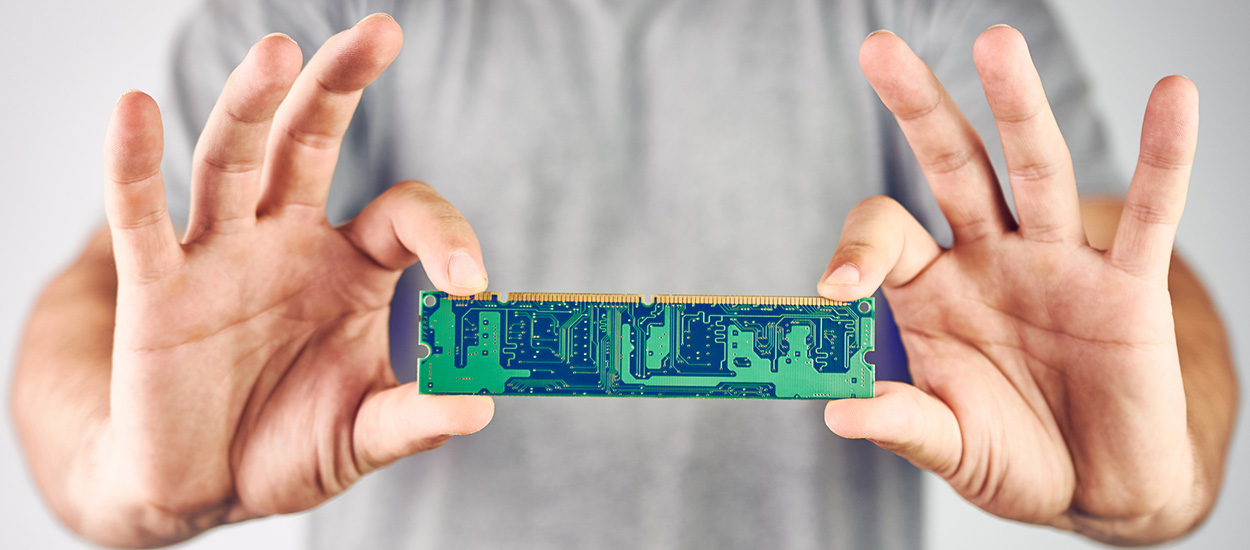ram: (416, 290, 877, 402)
